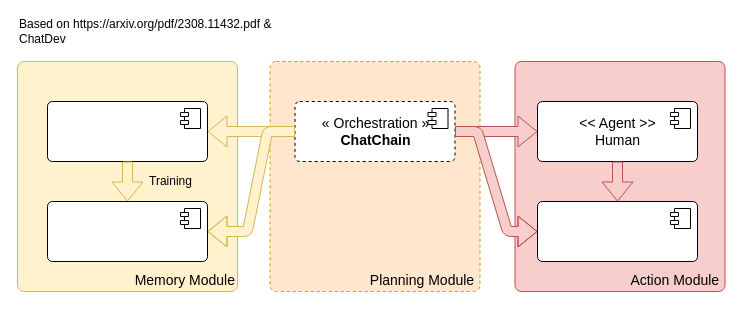
Some shapes in this 743 by 309 pixel diagram are drawn without their labels. The centre of each missing label's shape, as x and y in pixels:
"« Agent » Profile + LLM" belongs at (617,231).
"« Long term » Fine tuning" belongs at (127,231).
"« Short term » Embedding" belongs at (127,131).
